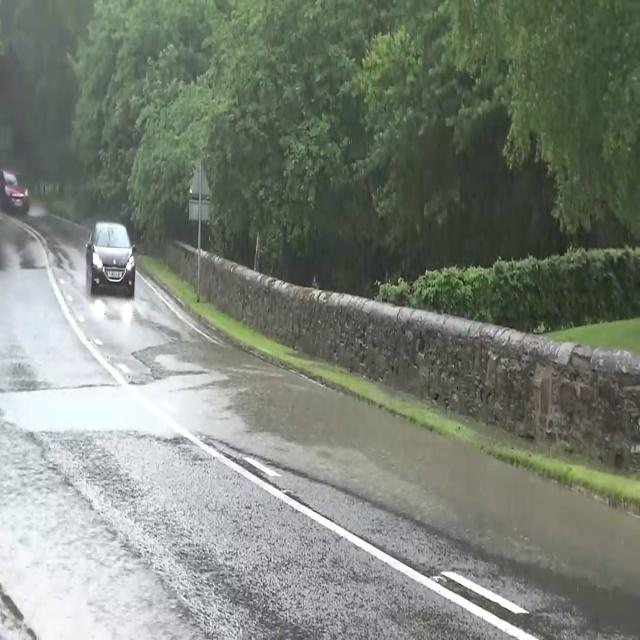license-plate-annotation: (104, 268, 126, 280)
